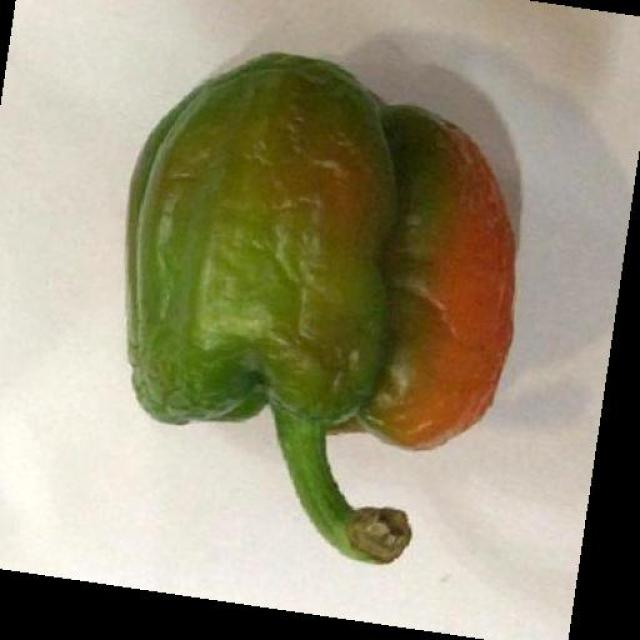Stale_Capsicum: (135, 72, 510, 523)
